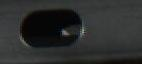holes: (19, 7, 85, 49)
